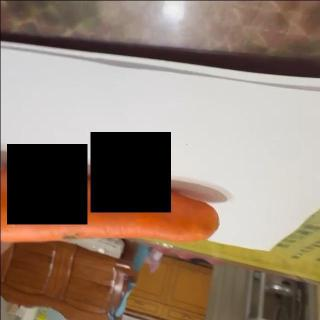carrot: (0, 164, 223, 244)
